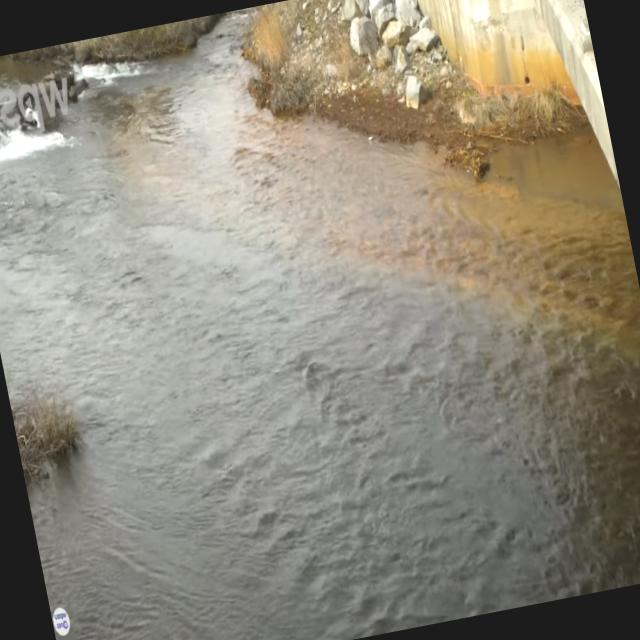yellow_boy: (227, 92, 640, 366)
